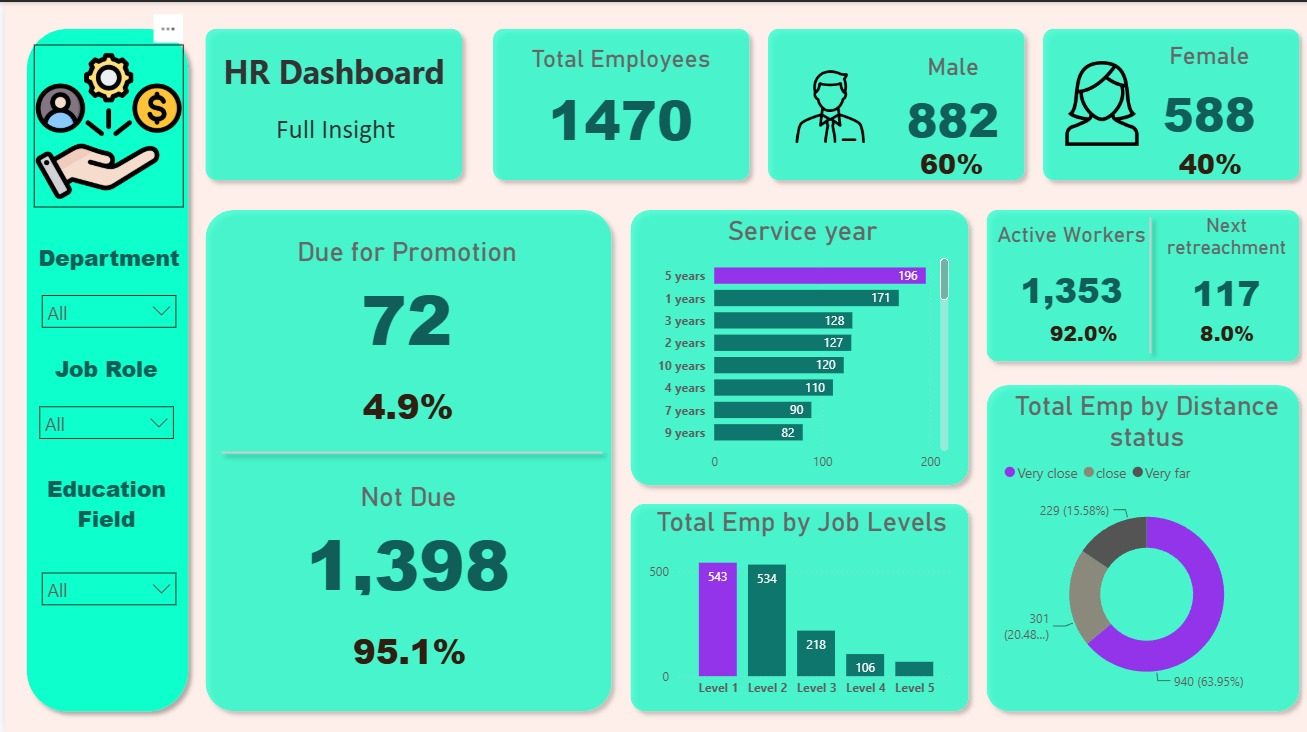

Layout of this report page (visuals, bound fields, positions):
{"tool":"powerbi","page":{"name":"Page 1","canvas":[1280,720],"ordinal":0},"visuals":[{"type":"shape","box":[11.7,16.7,176.7,688.3],"z":0},{"type":"shape","box":[740,16.7,270,166.7],"z":1000},{"type":"shape","box":[470,16.7,270,166.7],"z":2000},{"type":"shape","box":[188.3,16.7,270,166.7],"z":3000},{"type":"shape","box":[1010,16.7,270,166.7],"z":4000},{"type":"shape","box":[188.3,195,416.7,510],"z":5000},{"type":"shape","box":[605,195,350,288.3],"z":6000},{"type":"shape","box":[605,483.3,350,221.7],"z":7000},{"type":"shape","box":[955,195,325,166.7],"z":8000},{"type":"shape","box":[955,366.7,325,338.3],"z":9000},{"type":"textbox","box":[206.7,41.7,233.3,58.3],"z":10000},{"type":"textbox","box":[225.8,103.1,197.5,58.9],"z":11000},{"type":"cardVisual","title":"Total Employees","fields":{"Data":["All Measures.Total Emp"]},"box":[495,41.7,220,116.7],"z":12000},{"type":"cardVisual","title":"Male","fields":{"Data":["All Measures.Male"]},"box":[851.5,49.1,158.3,103.1],"z":13000},{"type":"cardVisual","title":"Male","fields":{"Data":["All Measures.% male"]},"box":[866.7,121.7,126.7,71.7],"z":14000},{"type":"cardVisual","title":"Female","fields":{"Data":["All Measures.Female"]},"box":[1098.2,38,168.1,114.1],"z":15000},{"type":"cardVisual","title":"Male","fields":{"Data":["All Measures.% female"]},"box":[1120,121.7,126.7,71.7],"z":16000},{"type":"image","box":[767.5,53.8,83.8,97.5],"z":17000},{"type":"image","box":[1035,53.8,82.5,91.2],"z":18000},{"type":"cardVisual","title":"Due for Promotion","fields":{"Data":["All Measures.Due for promotion"]},"box":[266.7,230,256.7,130],"z":19000},{"type":"cardVisual","title":"Male","fields":{"Data":["All Measures.% due for promotion"]},"box":[311.7,360,168.3,70],"z":20000},{"type":"cardVisual","title":"Not Due","fields":{"Data":["All Measures.Not due"]},"box":[260,470,271.7,130],"z":21000},{"type":"cardVisual","title":"Male","fields":{"Data":["All Measures.% not due"]},"box":[306.7,599.7,181.7,70],"z":22000},{"type":"shape","box":[203.3,415,391.7,55],"z":23000},{"type":"clusteredBarChart","title":"Service year","fields":{"Category":["HR Analytics Data.Service year"],"Y":["All Measures.Total Emp"]},"box":[634.4,208.6,296.9,261.4],"z":24000},{"type":"columnChart","fields":{"Category":["HR Analytics Data.Job Levels"],"Y":["All Measures.Total Emp"]},"box":[627.5,495,310,197.5],"z":25000},{"type":"cardVisual","title":"Active Workers","fields":{"Data":["All Measures.On Service"]},"box":[961.2,216.2,172.5,108.8],"z":26000},{"type":"cardVisual","title":"Male","fields":{"Data":["All Measures.% on service"]},"box":[983.8,288.8,150,71.2],"z":27000},{"type":"shape","box":[1102.5,202.5,42.5,151.2],"z":28000},{"type":"cardVisual","title":"Next retreachment","fields":{"Data":["All Measures.Retreanch"]},"box":[1117.5,208.8,162.5,108.8],"z":29000},{"type":"cardVisual","title":"Male","fields":{"Data":["All Measures.% retreanched"]},"box":[1133.8,288.8,132.5,71.2],"z":30000},{"type":"donutChart","fields":{"Category":["HR Analytics Data.Distance status"],"Y":["All Measures.Total Emp"]},"box":[975.5,380.4,290.8,311.7],"z":31000},{"type":"slicer","fields":{"Values":["HR Analytics Data.Department"]},"box":[25.8,277.5,152.1,50.3],"z":32000},{"type":"image","box":[28.2,41.7,147.2,160.7],"z":33000},{"type":"textbox","box":[25.8,230.9,152.1,46.6],"z":34000},{"type":"slicer","fields":{"Values":["HR Analytics Data.JobRole"]},"box":[23.3,386.7,152.1,50.3],"z":35000},{"type":"textbox","box":[23.3,340.1,152.1,46.6],"z":36000},{"type":"slicer","fields":{"Values":["HR Analytics Data.EducationField"]},"box":[25.8,549.7,152.1,50.3],"z":36001},{"type":"textbox","box":[23.3,457.7,152.1,78.5],"z":36002}]}

Visuals, with their boxes in screenshot pixels (x1, y1, x2, y2), scaled from the page's 1280x720 canvas onto the 1307x732 screenshot:
shape: (x1=12, y1=17, x2=192, y2=717)
shape: (x1=756, y1=17, x2=1031, y2=186)
shape: (x1=480, y1=17, x2=756, y2=186)
shape: (x1=192, y1=17, x2=468, y2=186)
shape: (x1=1031, y1=17, x2=1306, y2=186)
shape: (x1=192, y1=198, x2=618, y2=717)
shape: (x1=618, y1=198, x2=975, y2=491)
shape: (x1=618, y1=491, x2=975, y2=717)
shape: (x1=975, y1=198, x2=1306, y2=368)
shape: (x1=975, y1=373, x2=1306, y2=717)
textbox: (x1=211, y1=42, x2=449, y2=102)
textbox: (x1=231, y1=105, x2=432, y2=165)
"Total Employees" cardVisual: (x1=505, y1=42, x2=730, y2=161)
"Male" cardVisual: (x1=869, y1=50, x2=1031, y2=155)
"Male" cardVisual: (x1=885, y1=124, x2=1014, y2=197)
"Female" cardVisual: (x1=1121, y1=39, x2=1293, y2=155)
"Male" cardVisual: (x1=1144, y1=124, x2=1273, y2=197)
image: (x1=784, y1=55, x2=869, y2=154)
image: (x1=1057, y1=55, x2=1141, y2=147)
"Due for Promotion" cardVisual: (x1=272, y1=234, x2=534, y2=366)
"Male" cardVisual: (x1=318, y1=366, x2=490, y2=437)
"Not Due" cardVisual: (x1=265, y1=478, x2=543, y2=610)
"Male" cardVisual: (x1=313, y1=610, x2=499, y2=681)
shape: (x1=208, y1=422, x2=608, y2=478)
"Service year" clusteredBarChart: (x1=648, y1=212, x2=951, y2=478)
columnChart - HR Analytics Data.Job Levels x All Measures.Total Emp: (x1=641, y1=503, x2=957, y2=704)
"Active Workers" cardVisual: (x1=981, y1=220, x2=1158, y2=330)
"Male" cardVisual: (x1=1005, y1=294, x2=1158, y2=366)
shape: (x1=1126, y1=206, x2=1169, y2=360)
"Next retreachment" cardVisual: (x1=1141, y1=212, x2=1306, y2=323)
"Male" cardVisual: (x1=1158, y1=294, x2=1293, y2=366)
donutChart - HR Analytics Data.Distance status x All Measures.Total Emp: (x1=996, y1=387, x2=1293, y2=704)
slicer - HR Analytics Data.Department: (x1=26, y1=282, x2=182, y2=333)
image: (x1=29, y1=42, x2=179, y2=206)
textbox: (x1=26, y1=235, x2=182, y2=282)
slicer - HR Analytics Data.JobRole: (x1=24, y1=393, x2=179, y2=444)
textbox: (x1=24, y1=346, x2=179, y2=393)
slicer - HR Analytics Data.EducationField: (x1=26, y1=559, x2=182, y2=610)
textbox: (x1=24, y1=465, x2=179, y2=545)
